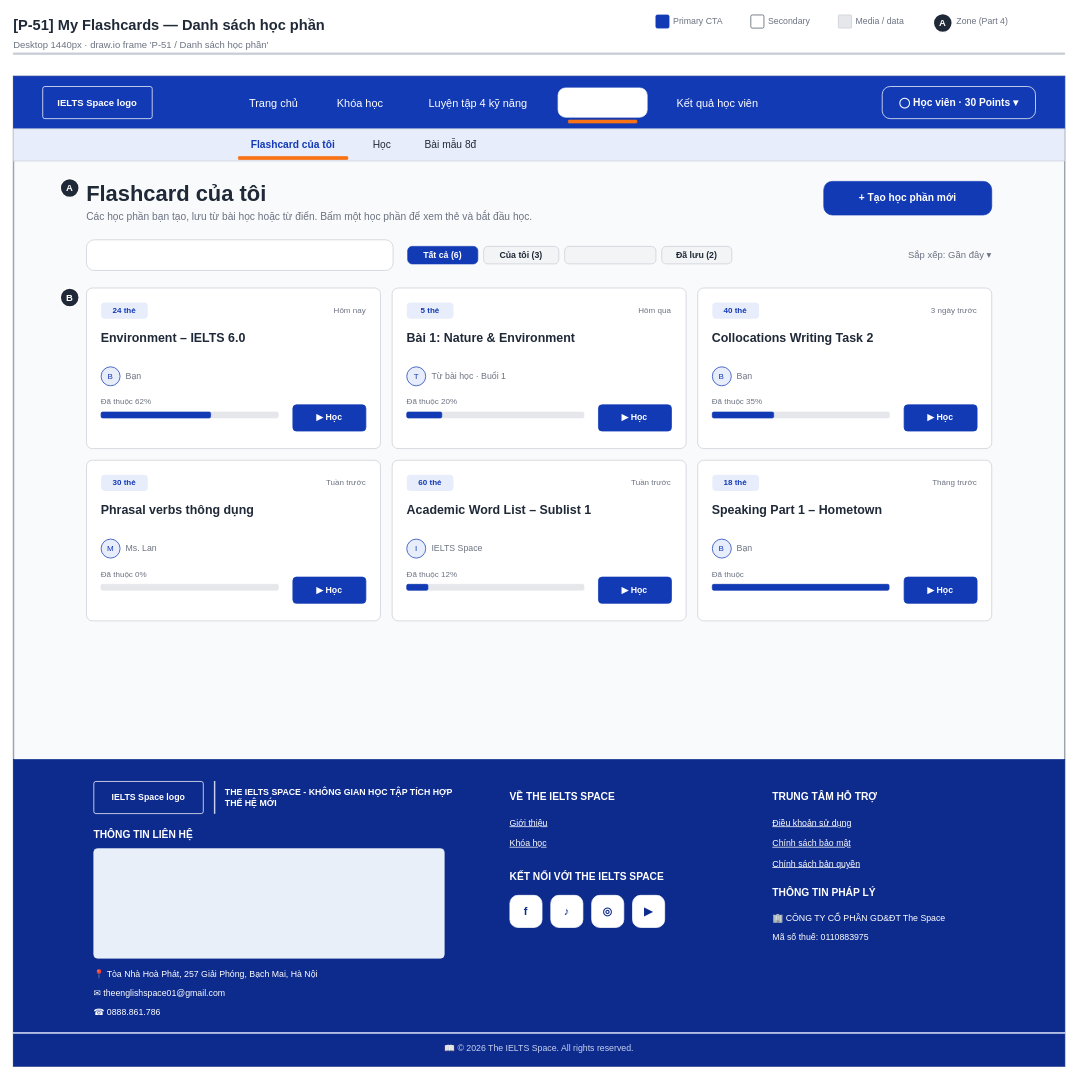
The diagram is 1078 pixels wide and 1079 high, and some of its shapes have lost their labels. The shapes that lost their labels are listed below. From the top down, each one's box as (x1, y1, x2, y2) in pixels, then its label:
(557, 87, 647, 117): Sổ ghi nhớ
(86, 239, 393, 270): ⌕ Tìm học phần…
(564, 246, 656, 264): Từ bài học (1)
(93, 848, 444, 958): 📍 The IELTS Space Mở trong Maps ↗
